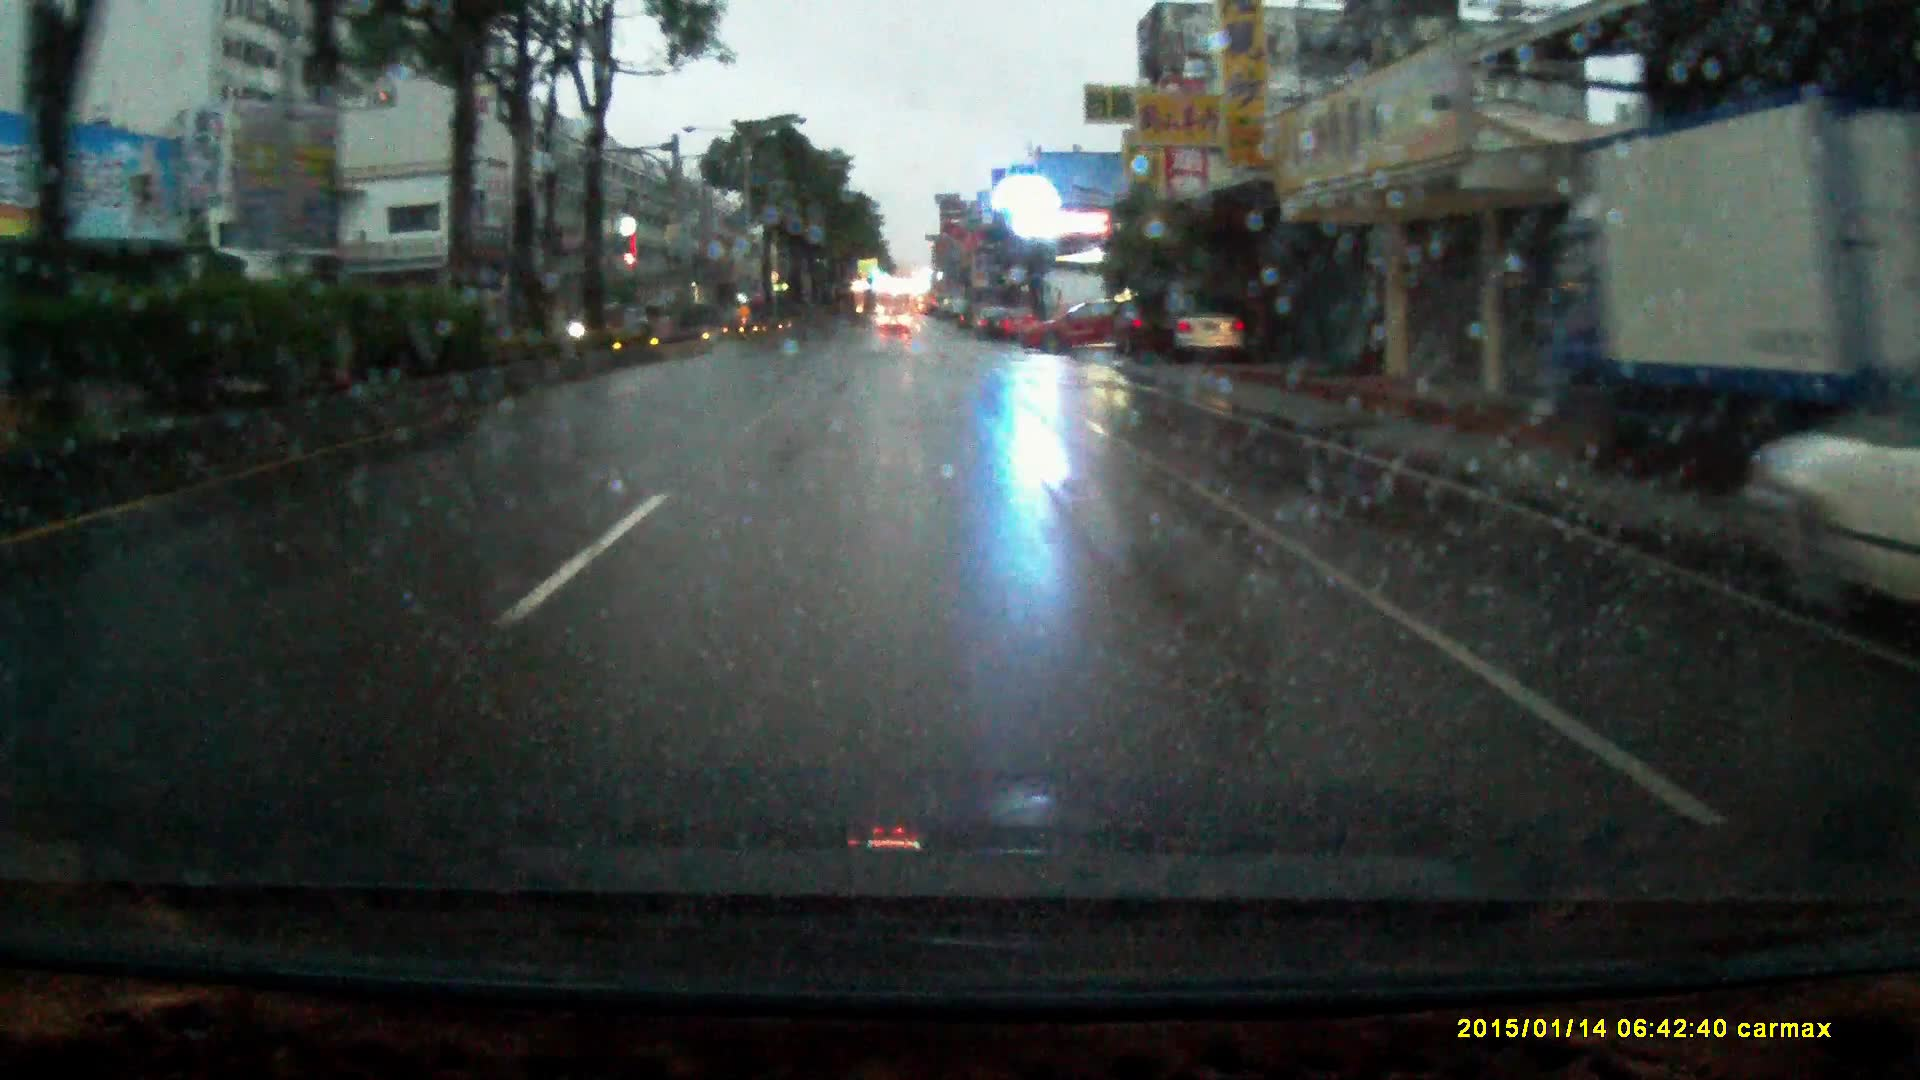vehicle: (1509, 96, 1902, 459), (1019, 294, 1149, 349), (1166, 291, 1251, 359), (1112, 293, 1185, 355), (1000, 299, 1042, 335), (880, 305, 913, 334)
